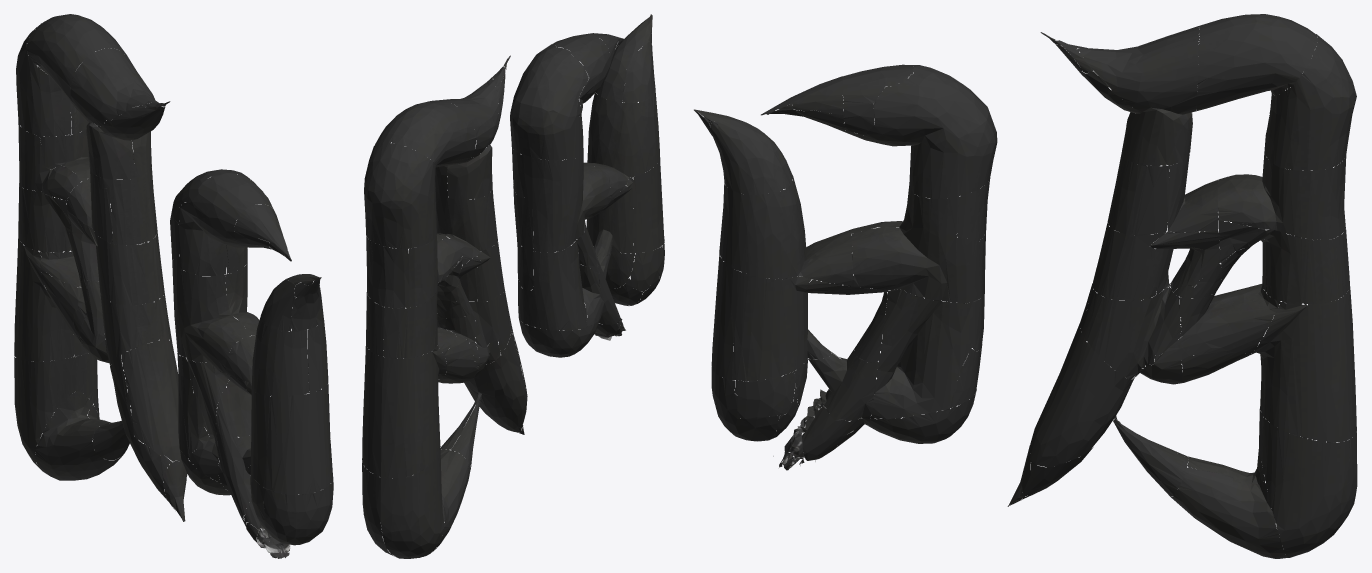
The picture shows the model from 3 angles, left to right: view 1: azimuth 30°, elevation 25°; view 2: azimuth 150°, elevation 25°; view 3: azimuth 270°, elevation 25°; orthographic projection. The views are drawn at different scales.
Visible parts, largest first — view 1: tripo_node_4cda9958-f1c0-4668-b696-ed21106331ea; view 2: tripo_node_4cda9958-f1c0-4668-b696-ed21106331ea; view 3: tripo_node_4cda9958-f1c0-4668-b696-ed21106331ea.
Part boxes in pixels (box(x1,y1,x2,y2)): tripo_node_4cda9958-f1c0-4668-b696-ed21106331ea: box(14, 14, 333, 558); tripo_node_4cda9958-f1c0-4668-b696-ed21106331ea: box(362, 14, 664, 558); tripo_node_4cda9958-f1c0-4668-b696-ed21106331ea: box(694, 14, 1357, 558).
Size of the model in its own units: 0.1408 by 0.8922 by 0.9999.
1 material, 1 textured.
